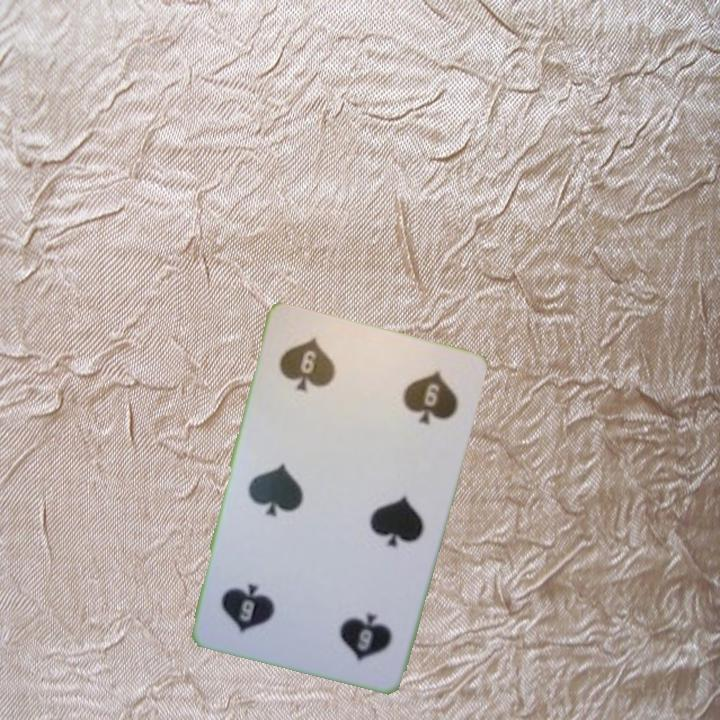s_6.png: (262, 319, 379, 426), (296, 571, 412, 678)
